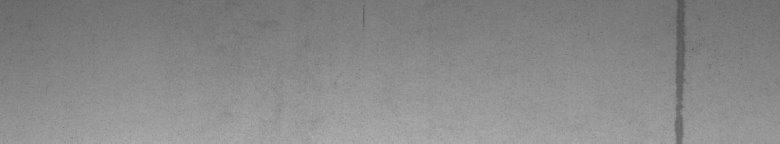hd: (670, 4, 694, 136)
